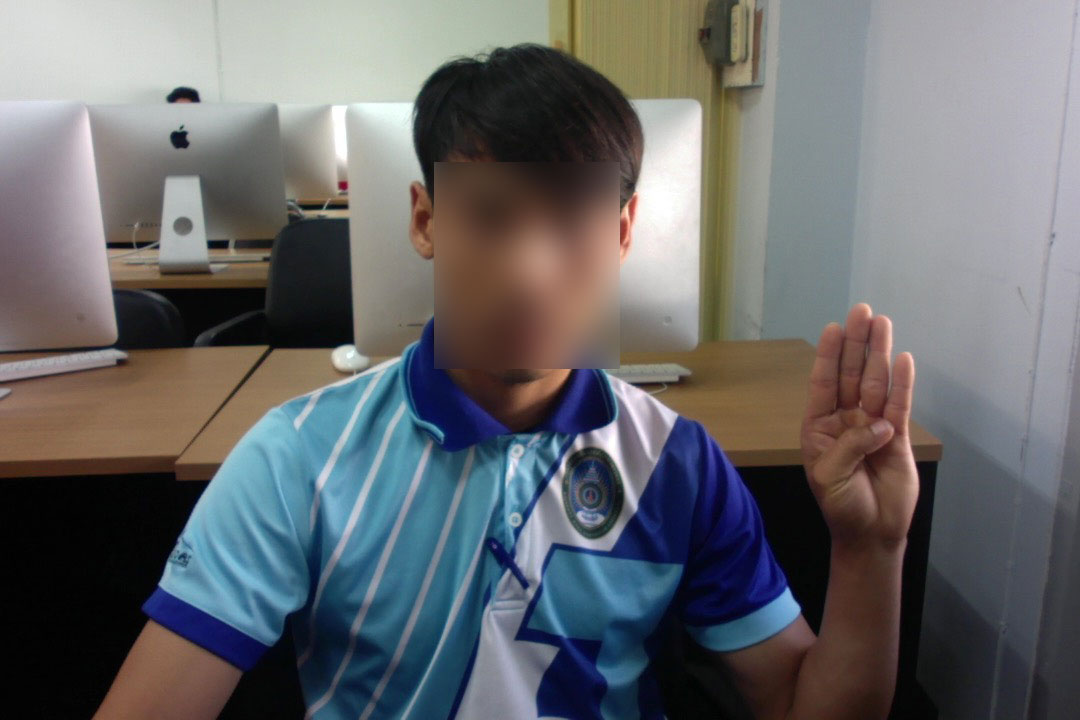bor: (792, 296, 923, 559)
